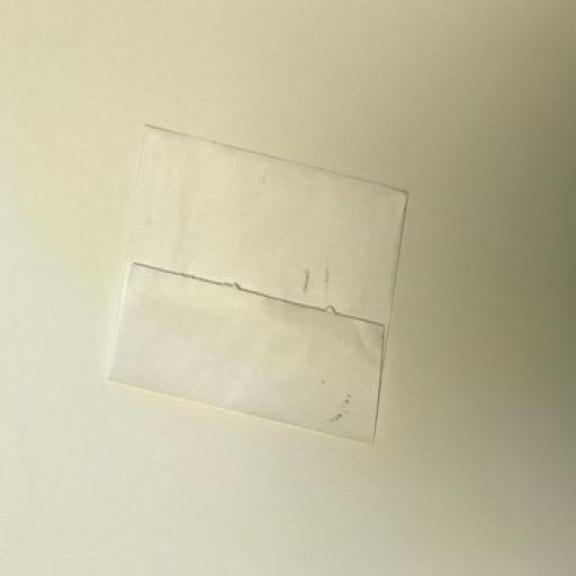Kertas: (96, 106, 413, 446)
